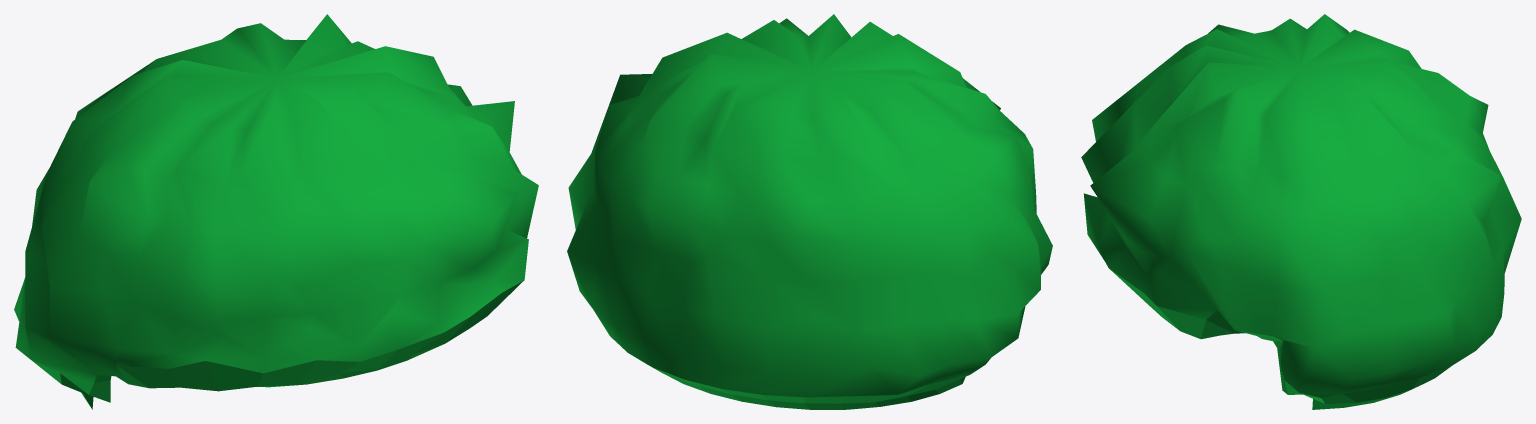
File: AfroHair.fbx
3 views of the same model, side by side, from view 1: azimuth 30°, elevation 25°; view 2: azimuth 150°, elevation 25°; view 3: azimuth 270°, elevation 25° (orthographic). The views are drawn at different scales.
Visible parts, largest first — view 1: Afro; view 2: Afro; view 3: Afro.
Part boxes in pixels (<box>): Afro: <box>14,14,538,409</box>; Afro: <box>567,14,1052,409</box>; Afro: <box>1081,14,1521,409</box>.
Size of the model in its own units: 325 by 198 by 276.
